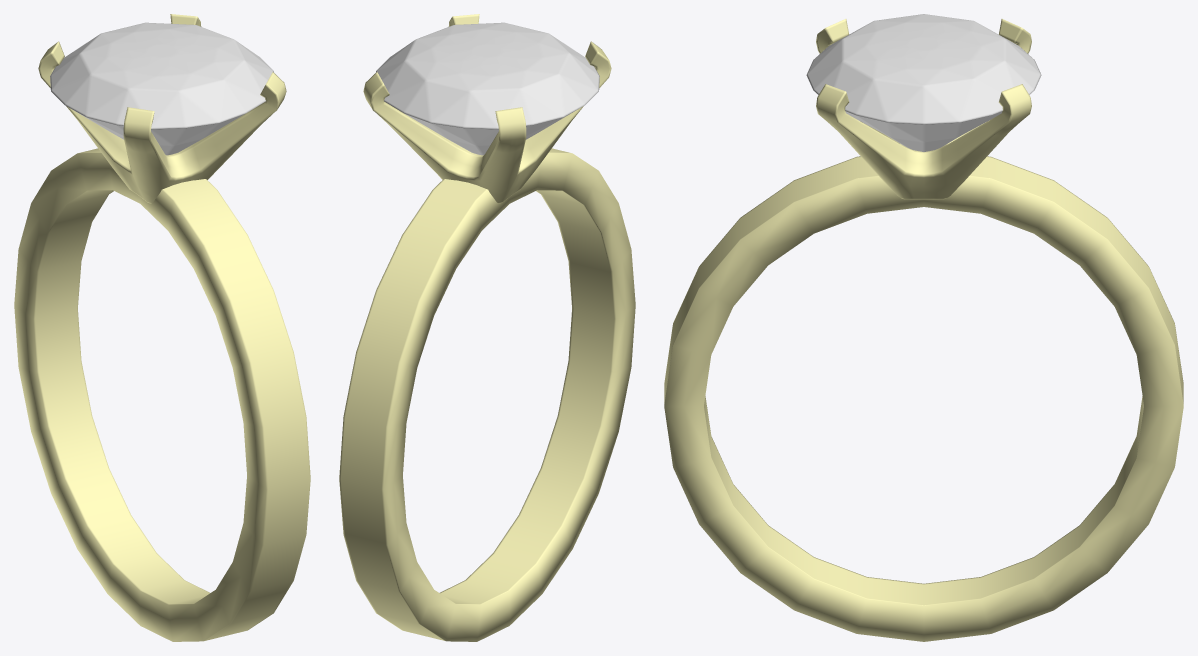
The model's file is ring.glb.
The picture shows the model from 3 angles, left to right: view 1: azimuth 30°, elevation 25°; view 2: azimuth 150°, elevation 25°; view 3: azimuth 270°, elevation 25°; orthographic projection. The views are drawn at different scales.
Visible parts, largest first — view 1: 07_Ring01, Diamond; view 2: 07_Ring01, Diamond; view 3: 07_Ring01, Diamond.
Boxes of the visible parts, left/top/right/bottom form: 07_Ring01: left=14, top=14, right=310, bottom=641; Diamond: left=50, top=22, right=273, bottom=155; 07_Ring01: left=339, top=14, right=635, bottom=641; Diamond: left=376, top=22, right=599, bottom=155; 07_Ring01: left=664, top=19, right=1183, bottom=641; Diamond: left=806, top=14, right=1041, bottom=151.
Size of the model in its own units: 1.47 by 4.08 by 3.28.
